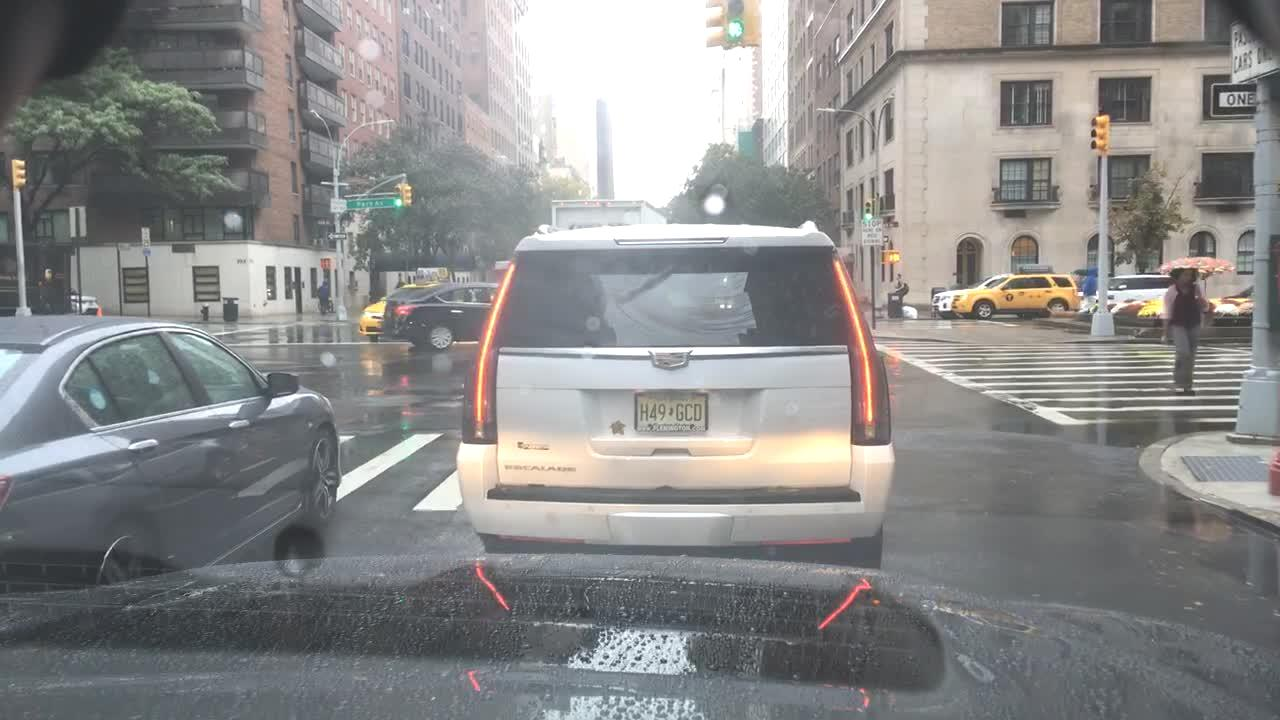cadillac: (636, 338, 734, 384)
